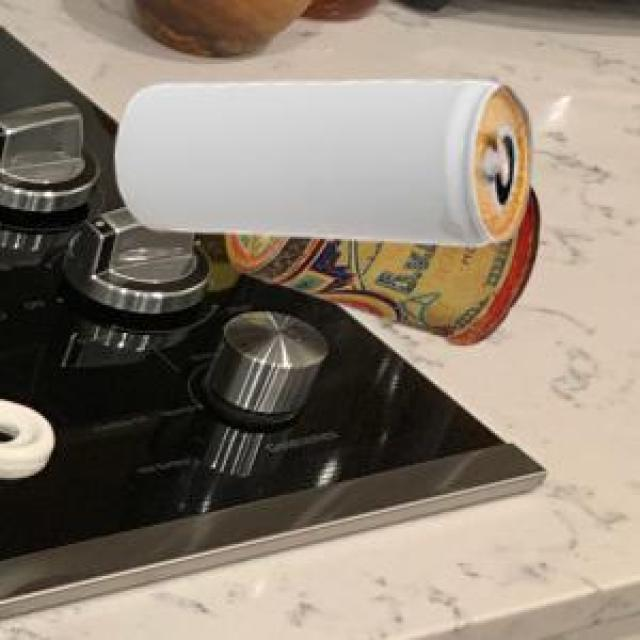Can: (112, 78, 530, 244), (223, 182, 537, 342)
